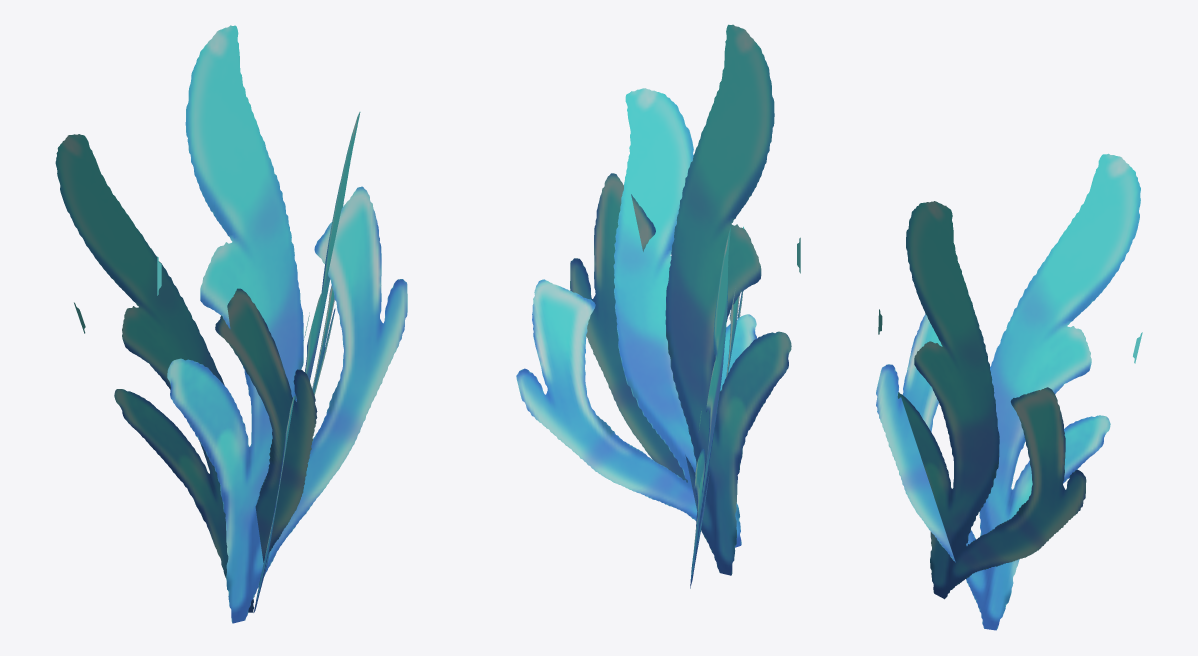
The model's file is Avatar_reed_01.fbx.
3 renders of one model, left to right at view 1: azimuth 30°, elevation 25°; view 2: azimuth 150°, elevation 25°; view 3: azimuth 270°, elevation 25°, orthographic. The views are drawn at different scales.
Parts seen in each view (by area): view 1: Avatar_reed_01; view 2: Avatar_reed_01; view 3: Avatar_reed_01.
Part boxes in pixels (box(x1,y1,x2,y2)): Avatar_reed_01: box(55, 25, 407, 623); Avatar_reed_01: box(516, 24, 800, 588); Avatar_reed_01: box(876, 153, 1142, 630).
Size of the model in its own units: 68.85 by 132 by 68.76.
